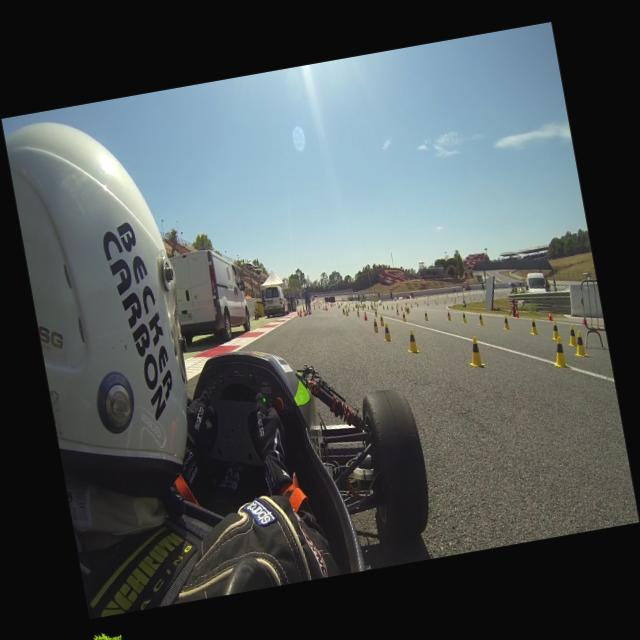orange_cone: (580, 313, 588, 327), (546, 310, 554, 322), (513, 308, 520, 320), (363, 311, 367, 320)
yellow_cone: (550, 334, 568, 369), (568, 330, 588, 360), (466, 335, 484, 368), (404, 328, 420, 354), (566, 323, 578, 348), (548, 320, 560, 342), (527, 316, 539, 336), (381, 322, 392, 342), (500, 314, 510, 332), (371, 318, 379, 332), (476, 312, 484, 326), (460, 310, 467, 324), (446, 310, 452, 322), (378, 315, 384, 327), (400, 312, 406, 322), (423, 310, 428, 322), (355, 308, 359, 316), (394, 308, 398, 315), (406, 306, 410, 313), (373, 310, 377, 316), (398, 306, 402, 311), (403, 305, 406, 311), (390, 304, 392, 310), (386, 304, 388, 310), (382, 304, 384, 309), (395, 305, 397, 310)
